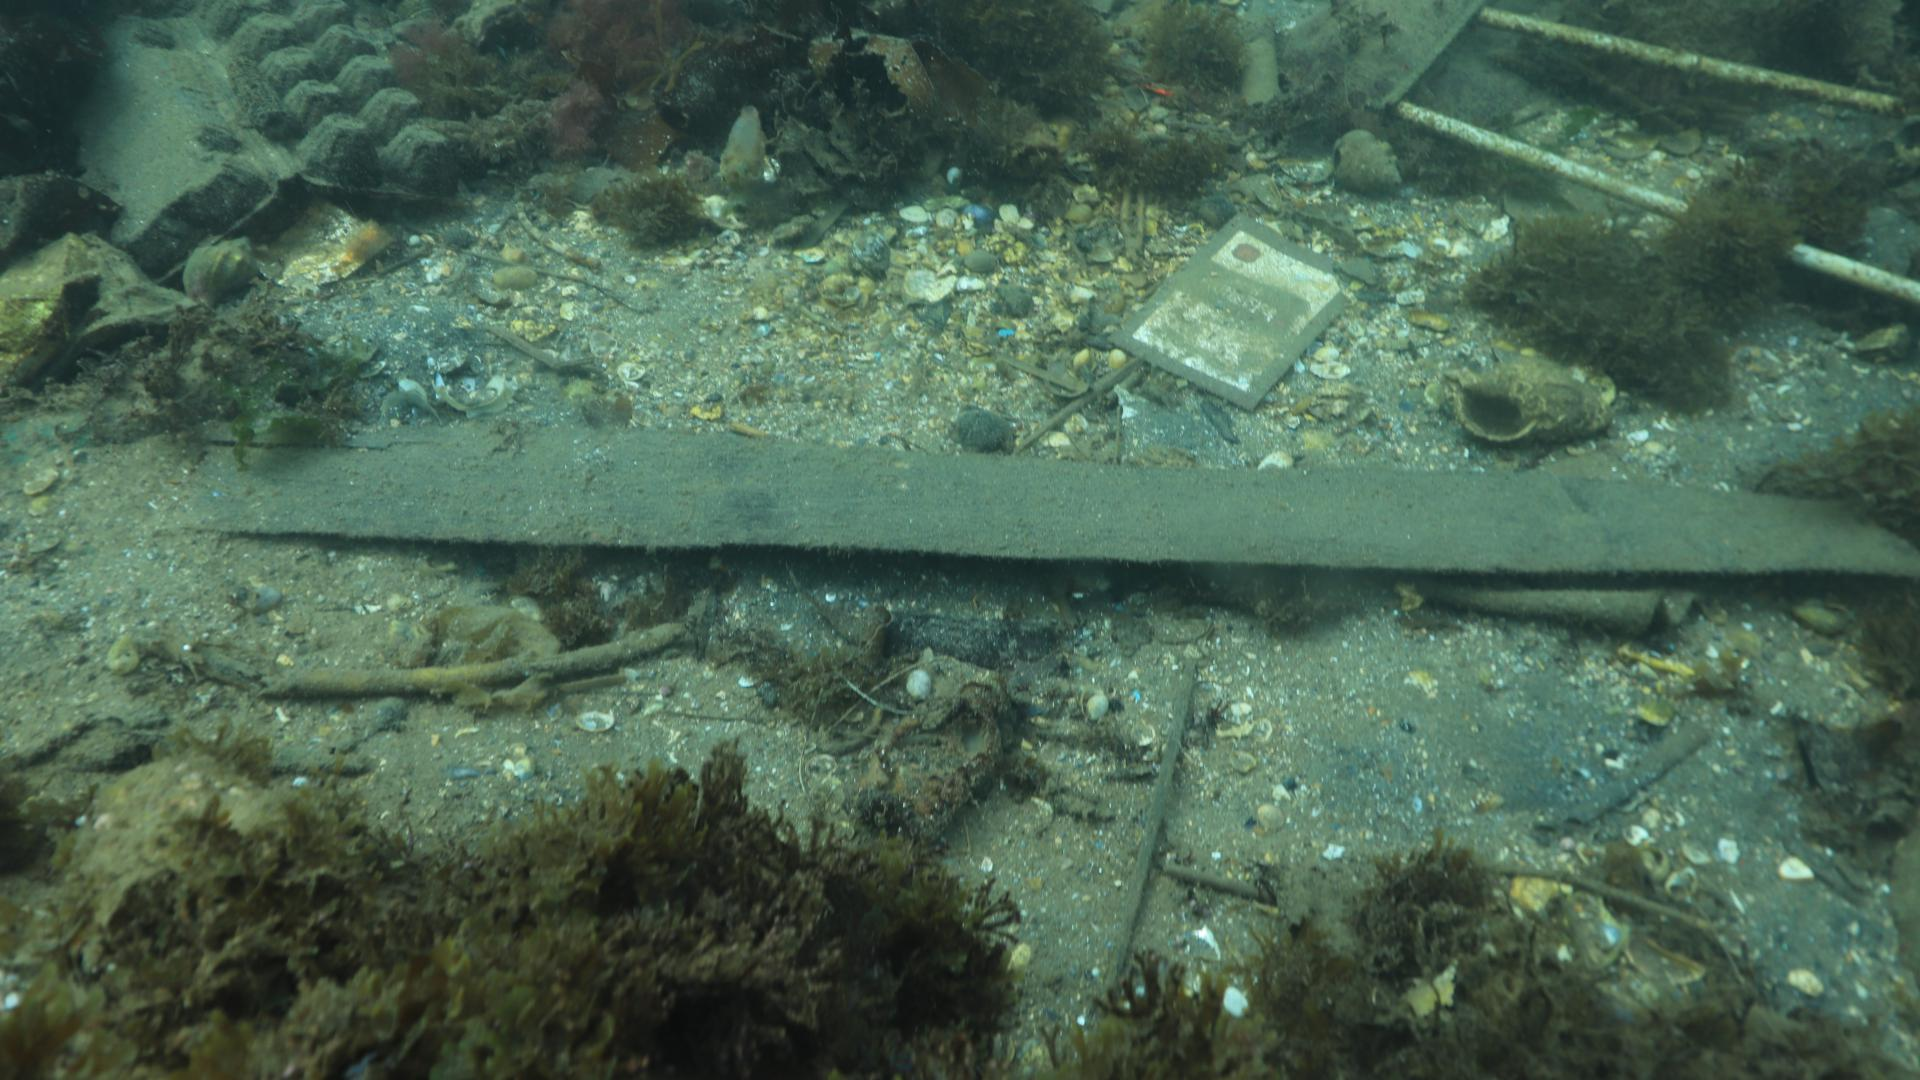wood: (175, 417, 1919, 579)
